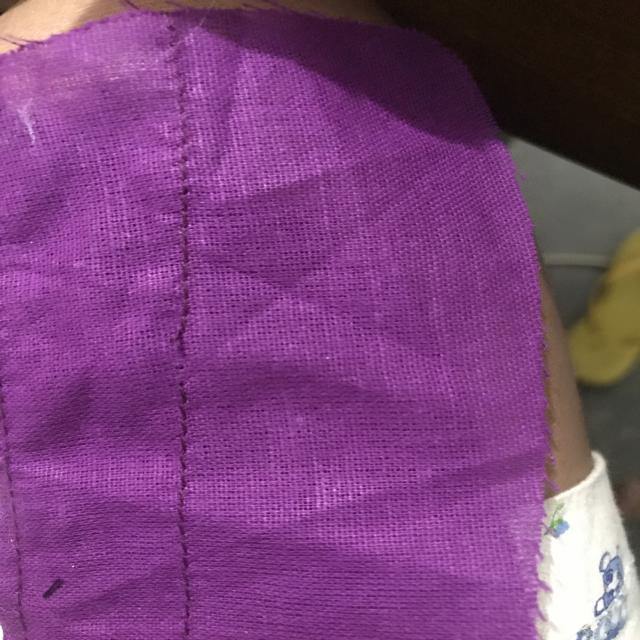broken: (151, 305, 229, 415)
good: (158, 438, 196, 534)
